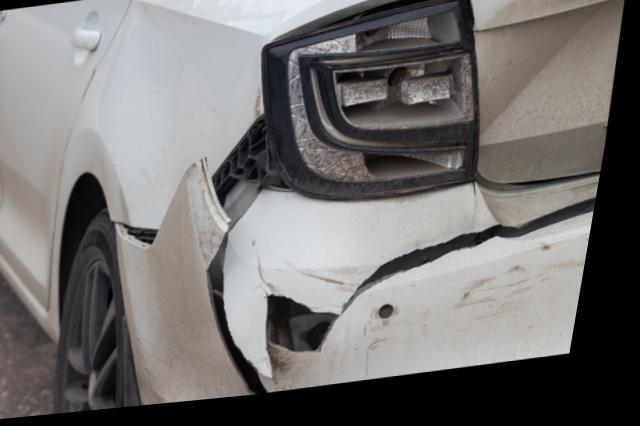crack: (216, 210, 605, 401)
dent: (100, 4, 266, 231)
dislocated part: (125, 117, 609, 410)
lamp broken: (269, 2, 484, 207)
